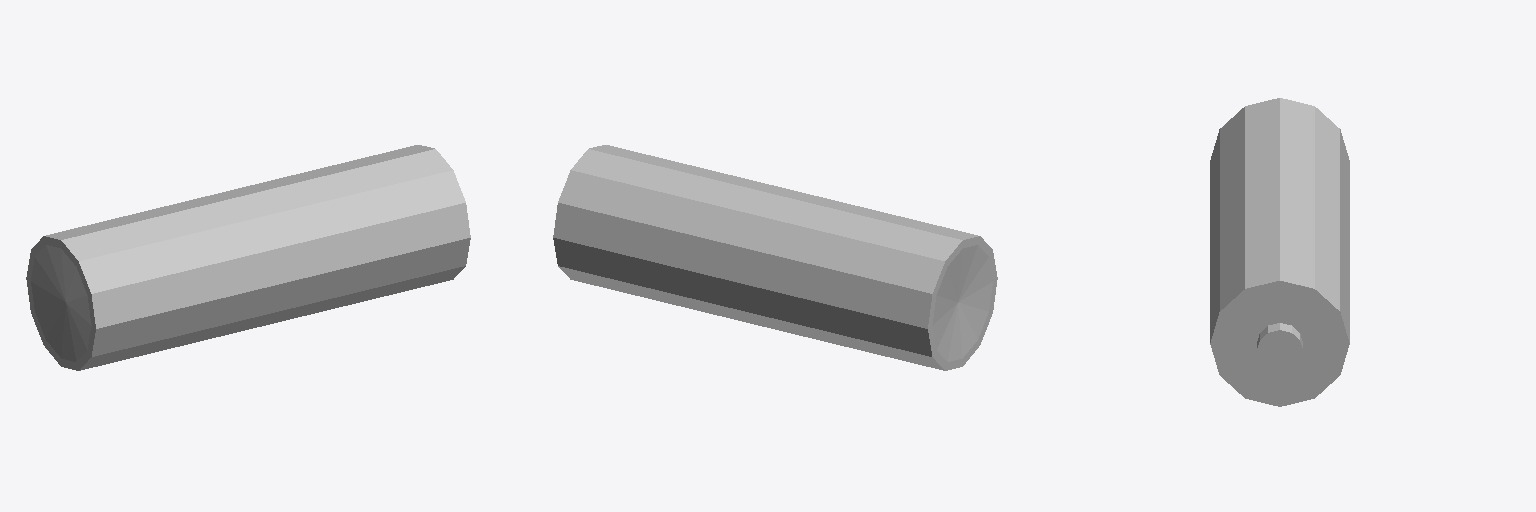
Rendered from AABattery.obj.
The picture shows the model from 3 angles: view 1: azimuth 30°, elevation 25°; view 2: azimuth 150°, elevation 25°; view 3: azimuth 270°, elevation 25°; orthographic projection.
Visible parts, largest first — view 1: AABatteryBody, AABatteryTop, AABatteryMetal; view 2: AABatteryBody, AABatteryTop, AABatteryMetal; view 3: AABatteryBody, AABatteryTop, AABatteryMetal.
Part boxes in pixels (x1,y1,x2,y2): AABatteryBody: (26,173,351,370); AABatteryTop: (301,145,470,307); AABatteryMetal: (31,245,91,361); AABatteryBody: (672,173,997,370); AABatteryTop: (553,145,722,307); AABatteryMetal: (932,245,992,361); AABatteryBody: (1210,98,1349,284); AABatteryTop: (1210,223,1349,406); AABatteryMetal: (1223,292,1336,394).
Size of the model in its own units: 3.67 by 1.14 by 1.14.